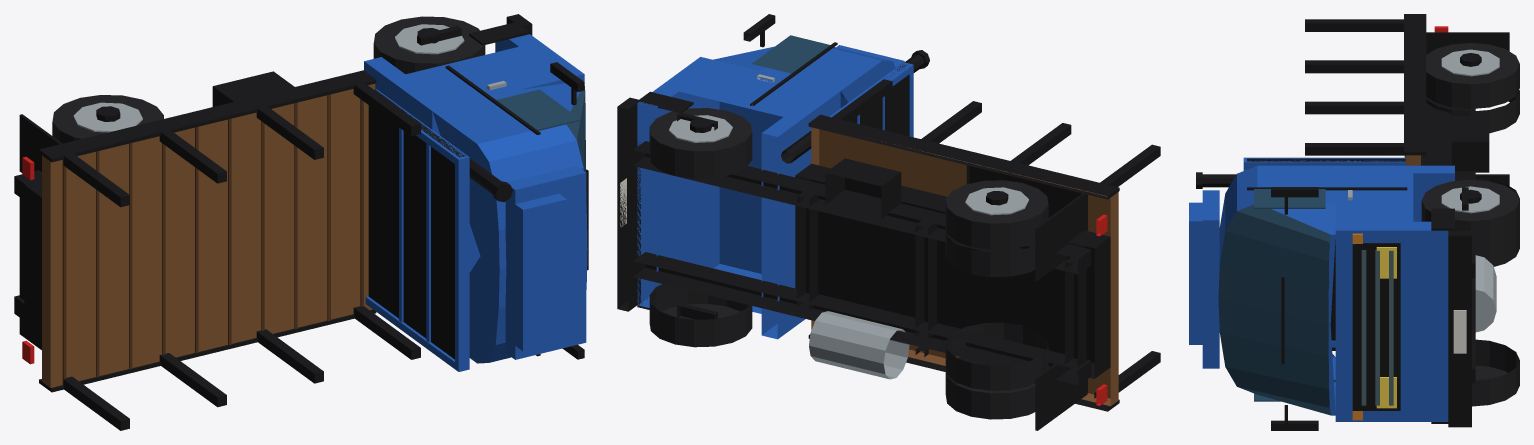
File: empty.glb
3 views of the same model, side by side, from view 1: azimuth 30°, elevation 25°; view 2: azimuth 150°, elevation 25°; view 3: azimuth 270°, elevation 25° (orthographic). The views are drawn at different scales.
Visible parts, largest first — view 1: empty_deck, empty_headboard, empty_cab_upper, empty_air_dam_top, empty_air_dam, empty_side1_-3.60_1.67_black, empty_cab_arch, empty_front1, empty_rear_out1, empty_headboard_top, empty_subframe, empty_cab_back (+29 smaller); view 2: empty_subframe, empty_cab_arch, empty_chassis-1, empty_deck, empty_cab_front, empty_cab_back, empty_chassis1, empty_front1, empty_rear_out1, empty_fuel_tank, empty_side1_-3.60_1.67_black, empty_front-1 (+23 smaller); view 3: empty_cab_upper, empty_cab_front, empty_grille, empty_rear_out1, empty_front1, empty_bumper, empty_cab_arch, empty_side1_-3.60_1.67_black, empty_air_dam, empty_front-1, empty_battery_box, empty_air_dam_top (+27 smaller).
Part boxes in pixels (x1=…): empty_deck: x1=42, y1=83, x2=375, y2=387; empty_headboard: x1=368, y1=89, x2=465, y2=359; empty_cab_upper: x1=432, y1=83, x2=587, y2=363; empty_air_dam_top: x1=515, y1=193, x2=566, y2=351; empty_air_dam: x1=505, y1=165, x2=586, y2=359; empty_side1_-3.60_1.67_black: x1=39, y1=70, x2=376, y2=162; empty_cab_arch: x1=406, y1=46, x2=563, y2=272; empty_front1: x1=373, y1=16, x2=485, y2=74; empty_rear_out1: x1=52, y1=95, x2=163, y2=143; empty_headboard_top: x1=455, y1=157, x2=469, y2=371; empty_subframe: x1=24, y1=180, x2=41, y2=338; empty_cab_back: x1=364, y1=57, x2=449, y2=135; empty_subframe: x1=795, y1=163, x2=1110, y2=378; empty_cab_arch: x1=678, y1=61, x2=823, y2=313; empty_chassis-1: x1=633, y1=252, x2=1091, y2=385; empty_deck: x1=811, y1=127, x2=1118, y2=406; empty_cab_front: x1=637, y1=57, x2=719, y2=307; empty_cab_back: x1=761, y1=87, x2=840, y2=339; empty_chassis1: x1=633, y1=141, x2=1091, y2=274; empty_front1: x1=649, y1=108, x2=752, y2=178; empty_rear_out1: x1=945, y1=180, x2=1048, y2=249; empty_fuel_tank: x1=809, y1=311, x2=909, y2=379; empty_side1_-3.60_1.67_black: x1=808, y1=114, x2=1119, y2=199; empty_front-1: x1=649, y1=284, x2=752, y2=347; empty_cab_upper: x1=1218, y1=165, x2=1335, y2=415; empty_cab_front: x1=1335, y1=221, x2=1448, y2=421; empty_grille: x1=1352, y1=243, x2=1400, y2=410; empty_rear_out1: x1=1426, y1=43, x2=1519, y2=108; empty_front1: x1=1421, y1=179, x2=1519, y2=246; empty_bumper: x1=1448, y1=230, x2=1471, y2=427; empty_cab_arch: x1=1335, y1=173, x2=1413, y2=221; empty_side1_-3.60_1.67_black: x1=1404, y1=14, x2=1426, y2=155; empty_air_dam: x1=1202, y1=190, x2=1219, y2=368; empty_front-1: x1=1472, y1=339, x2=1519, y2=406; empty_battery_box: x1=1451, y1=115, x2=1489, y2=172; empty_air_dam_top: x1=1189, y1=202, x2=1202, y2=344.
Bounding box in the file's own units: 7.56 × 3.9 × 4.85.
